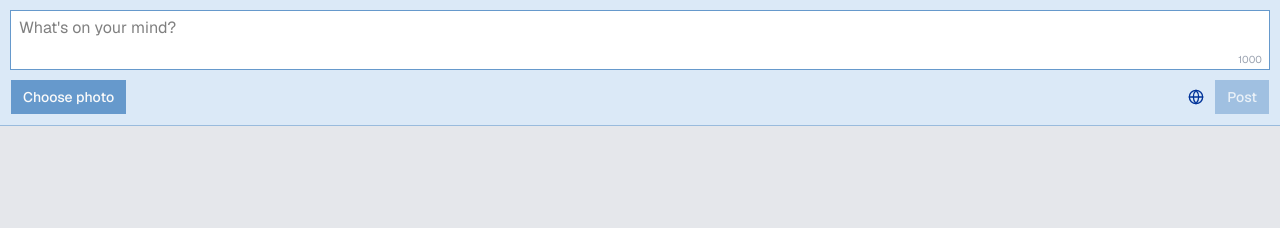
Test case: PostComposer @mention autocomplete › inserts the selected friend via keyboard navigation and keeps typing
Type "@" into the dropdown with placeholder "What's on your mind?" at (640, 40), box [10,10,1270,70]
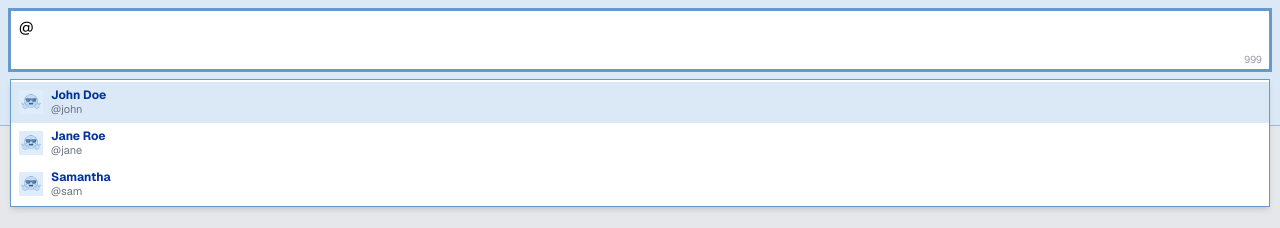
Press Arrowdown
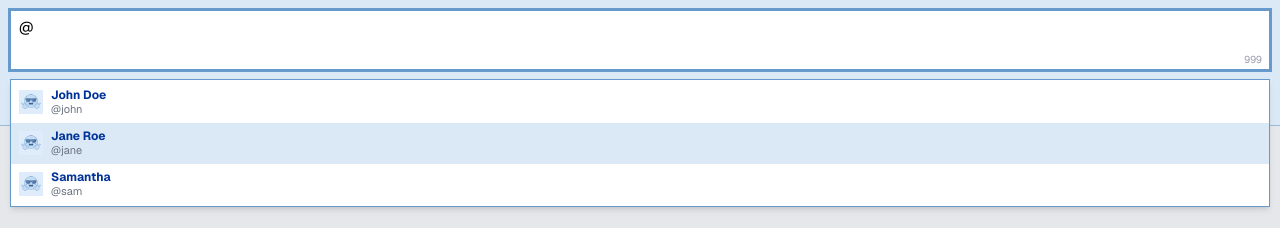
Press Enter
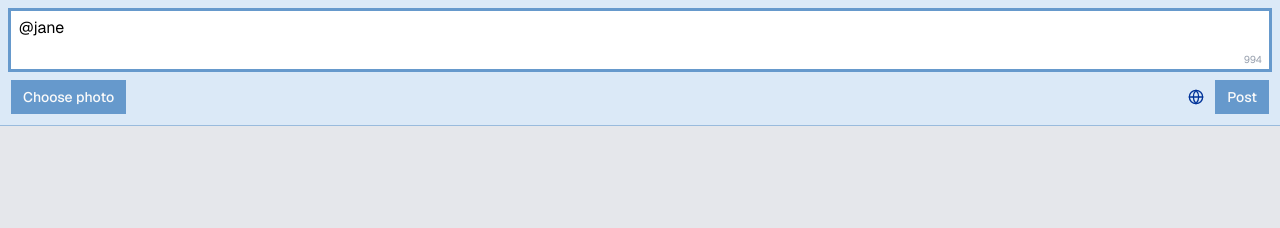
Check: the dropdown with placeholder "What's on your mind?" holds "@jane "
// Caret should be after the inserted mention so typing continues naturally.
Type "is cool" into the dropdown with placeholder "What's on your mind?" at (640, 40), box [10,10,1270,70]
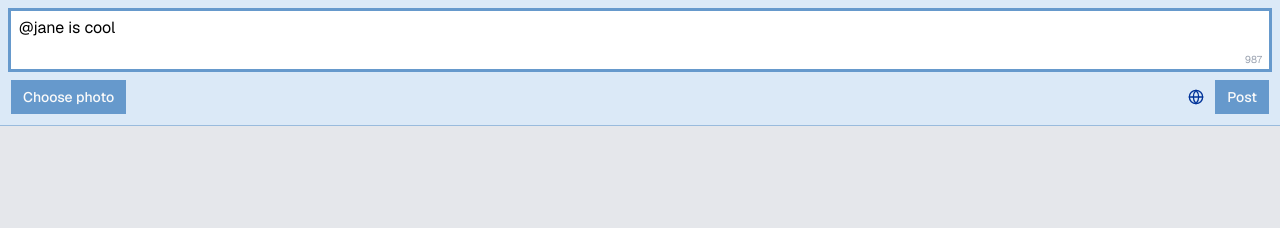
Check: the dropdown with placeholder "What's on your mind?" holds "@jane is cool", box [10,10,1270,70]
